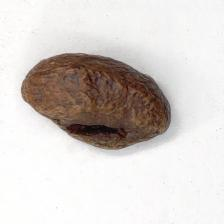NG: (49, 107, 133, 150)
